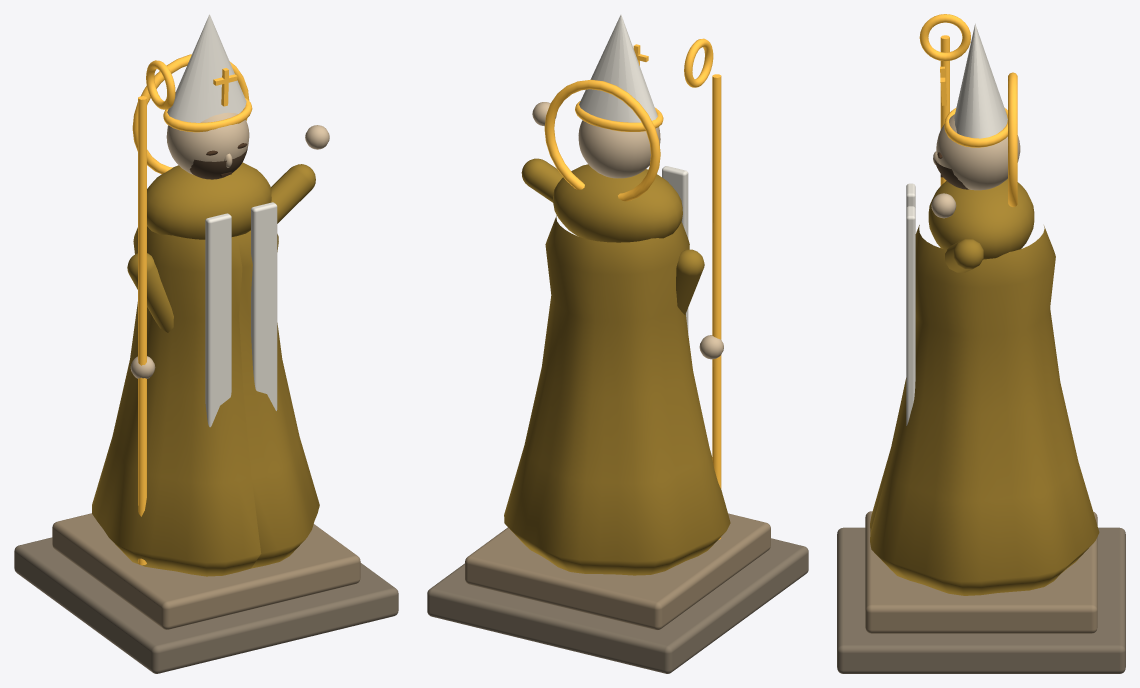
The model's file is statue-augustino.glb.
3 views of the same model, side by side, from view 1: azimuth 30°, elevation 25°; view 2: azimuth 150°, elevation 25°; view 3: azimuth 270°, elevation 25° (orthographic). The views are drawn at different scales.
Visible parts, largest first — view 1: Robe, PlinthLow, PlinthTop, Stole (×2), Shoulders, Mitre, object 20, Head, ArmR, ArmL, object 22, HeadG (+2 smaller); view 2: Robe, PlinthLow, PlinthTop, Shoulders, Mitre, object 20, Head, object 22, ArmL, ArmR, Stole, object 21 (+1 smaller); view 3: Robe, PlinthLow, PlinthTop, Shoulders, Mitre, Head, Stole, object 22, object 21, ArmR, HeadG, object 20 (+1 smaller).
Part boxes in pixels (box(x1,y1,x2,y2)): Robe: box(92, 226, 319, 576); PlinthLow: box(14, 537, 398, 673); PlinthTop: box(52, 513, 360, 629); Stole (×2): box(205, 202, 277, 427); Shoulders: box(147, 162, 271, 239); Mitre: box(167, 14, 246, 122); object 20: box(138, 96, 146, 565); Head: box(166, 112, 249, 174); ArmR: box(246, 164, 315, 233); ArmL: box(127, 253, 173, 332); object 22: box(132, 54, 249, 174); HeadG: box(163, 98, 252, 132); Robe: box(504, 215, 730, 575); PlinthLow: box(427, 538, 808, 673); PlinthTop: box(465, 513, 770, 629); Shoulders: box(553, 164, 682, 242); Mitre: box(579, 14, 657, 122); object 20: box(712, 74, 721, 539); Head: box(578, 120, 660, 178); object 22: box(544, 79, 660, 201); ArmL: box(676, 249, 704, 314); ArmR: box(521, 158, 562, 202); Stole: box(662, 166, 688, 332); object 21: box(684, 38, 713, 87); Robe: box(870, 225, 1099, 595); PlinthLow: box(837, 527, 1125, 673); PlinthTop: box(865, 511, 1097, 633); Shoulders: box(928, 179, 1034, 259); Mitre: box(954, 24, 1007, 138); Head: box(936, 114, 1020, 190); Stole: box(906, 206, 915, 425); object 22: box(1008, 72, 1017, 206); object 21: box(919, 14, 970, 61); ArmR: box(945, 239, 983, 272); HeadG: box(944, 108, 1007, 147); object 20: box(940, 35, 949, 185).
Size of the model in its own units: 0.92 by 2.08 by 0.92.
